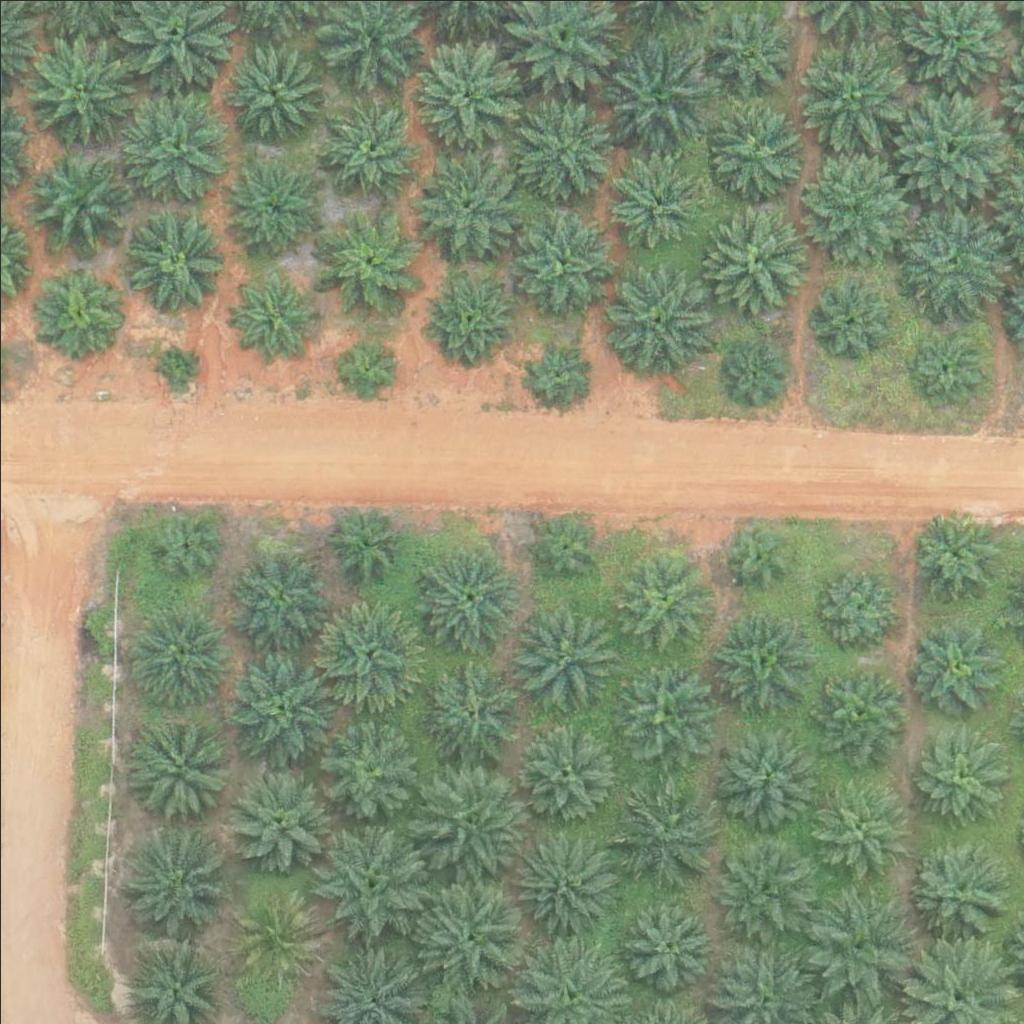Kelapa_Sawit: (788, 29, 913, 155), (597, 38, 722, 164), (401, 27, 526, 152), (312, 824, 425, 938), (23, 29, 136, 143), (223, 652, 336, 765), (797, 149, 910, 262), (413, 883, 525, 997), (895, 92, 1007, 206), (311, 591, 423, 704), (116, 826, 228, 939), (416, 759, 528, 872), (800, 890, 912, 1003), (900, 208, 1012, 321), (118, 95, 230, 208), (229, 546, 329, 647), (420, 655, 520, 756), (416, 548, 516, 649), (514, 832, 614, 933), (513, 719, 613, 820), (513, 610, 613, 711), (614, 787, 714, 888), (612, 661, 712, 762), (612, 549, 712, 650), (706, 837, 806, 938), (712, 729, 812, 830), (711, 607, 811, 708), (805, 780, 905, 881), (806, 663, 906, 764), (907, 838, 1007, 939), (908, 722, 1008, 823), (705, 211, 805, 312), (706, 96, 806, 197), (603, 270, 703, 371), (609, 149, 709, 250), (512, 213, 612, 314), (512, 101, 612, 202), (417, 156, 517, 257), (315, 209, 415, 310), (320, 94, 420, 195), (223, 157, 323, 258), (221, 41, 321, 142), (131, 719, 231, 819), (126, 605, 226, 705), (225, 766, 325, 866), (319, 716, 419, 816), (905, 506, 1005, 606), (699, 1, 799, 101), (123, 213, 223, 313), (28, 155, 128, 255), (232, 888, 320, 976), (812, 562, 900, 650), (230, 270, 318, 358), (625, 898, 712, 986), (908, 622, 995, 710), (419, 273, 506, 361), (32, 261, 119, 349), (908, 324, 983, 400), (145, 507, 220, 583), (719, 515, 794, 591), (811, 281, 886, 356), (327, 502, 402, 577), (523, 508, 598, 583), (722, 339, 785, 402), (523, 341, 585, 404), (337, 340, 399, 403), (155, 345, 192, 383)
